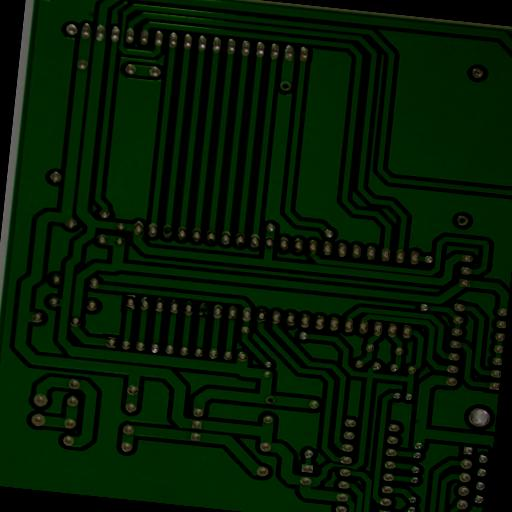missing_hole: (265, 394, 275, 404), (162, 226, 172, 235), (198, 305, 208, 314), (281, 81, 290, 90), (458, 216, 468, 224)
